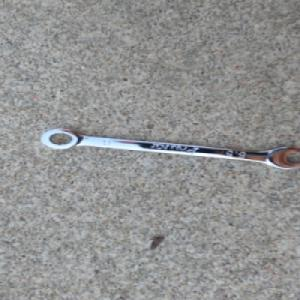Wrench: (38, 126, 300, 170)
